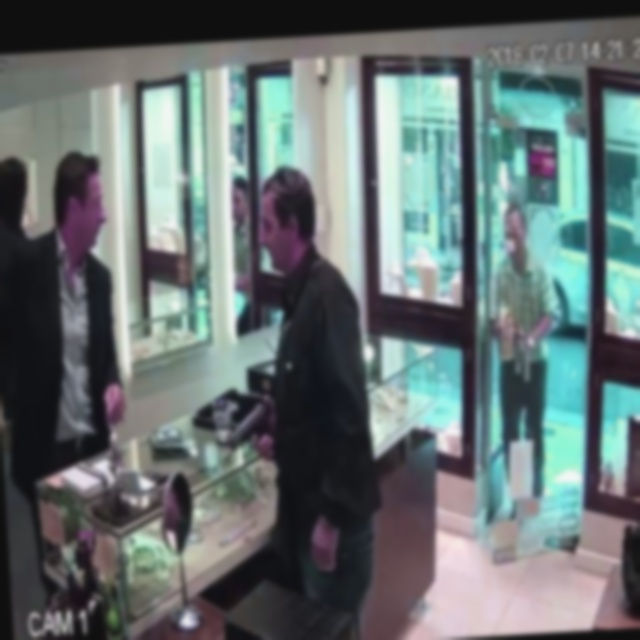gun: (214, 382, 285, 473)
